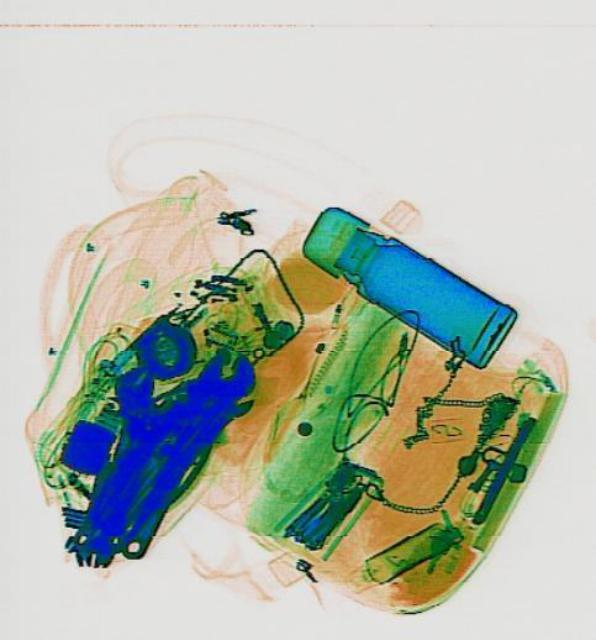Wrench: (99, 337, 262, 569)
